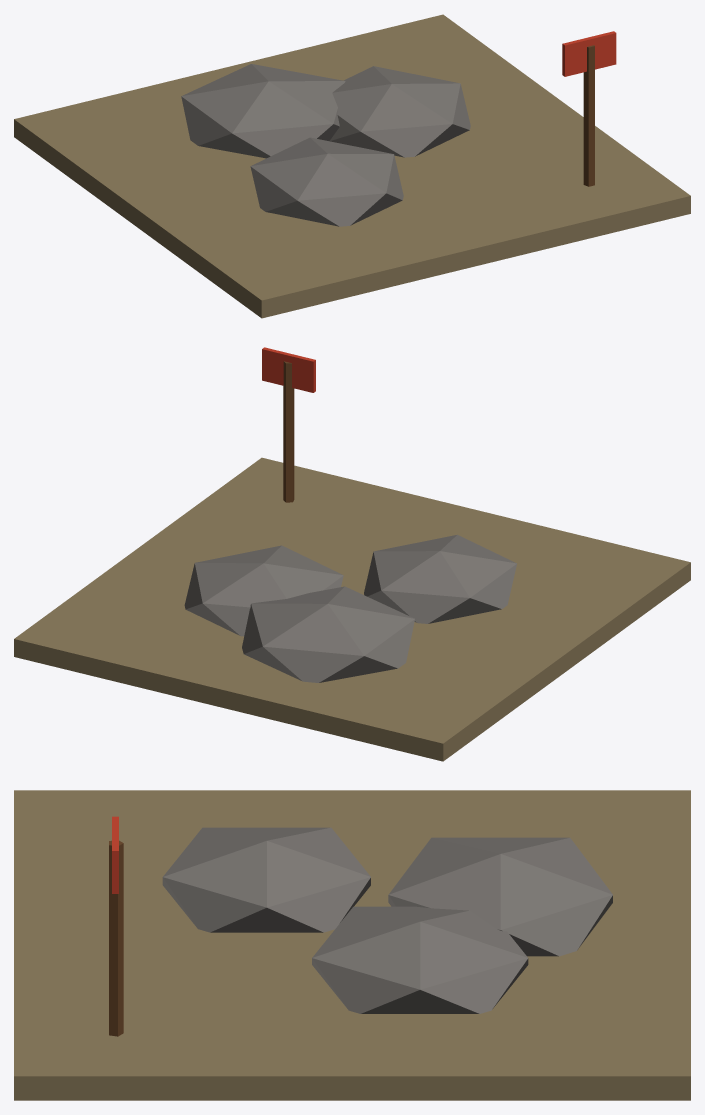
Rendered from Deposit_Gold_Depleted.fbx.
3 renders of one model, top to bottom at view 1: azimuth 30°, elevation 25°; view 2: azimuth 150°, elevation 25°; view 3: azimuth 270°, elevation 25°, orthographic. The views are drawn at different scales.
Parts seen in each view (by area): view 1: Deposit_Gold_Depleted_Body; view 2: Deposit_Gold_Depleted_Body; view 3: Deposit_Gold_Depleted_Body.
Boxes of the visible parts, x1,y1,x2,y2 form: Deposit_Gold_Depleted_Body: (14, 14, 690, 318); Deposit_Gold_Depleted_Body: (14, 347, 690, 761); Deposit_Gold_Depleted_Body: (14, 790, 690, 1100).
Size of the model in its own units: 1 by 0.3763 by 1.
